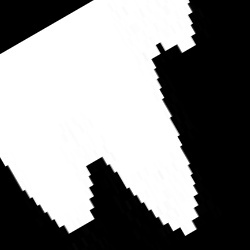spot: (1, 0, 198, 236)
